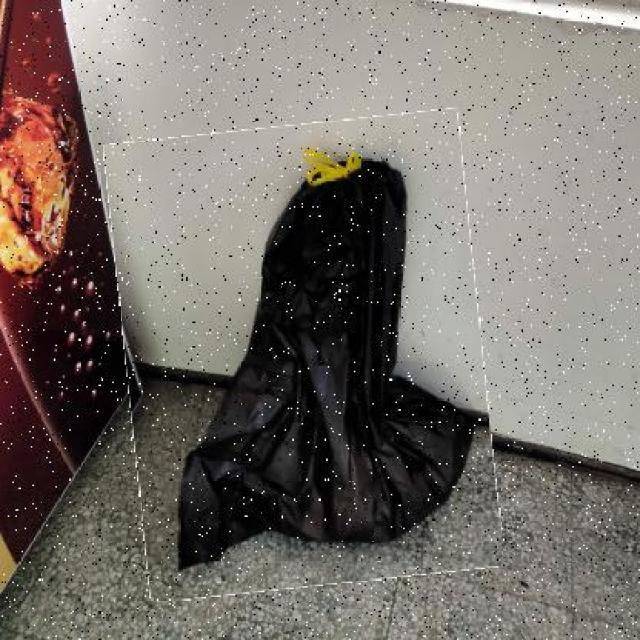waste: (114, 116, 493, 593)
